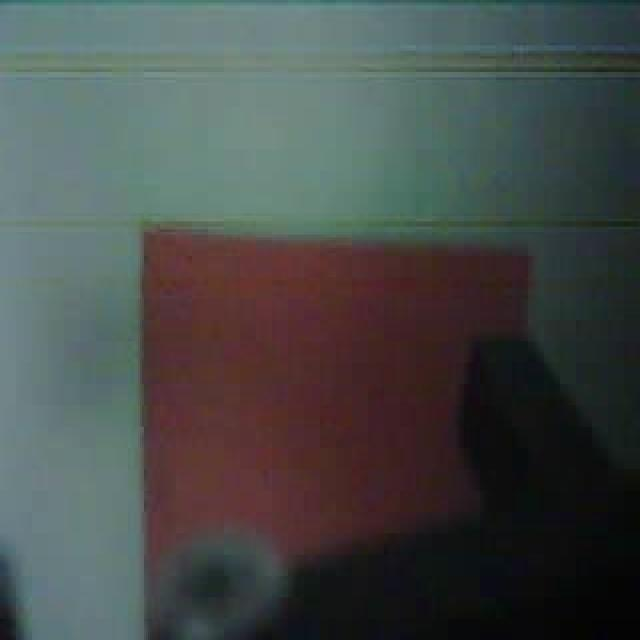red_box: (136, 214, 537, 640)
